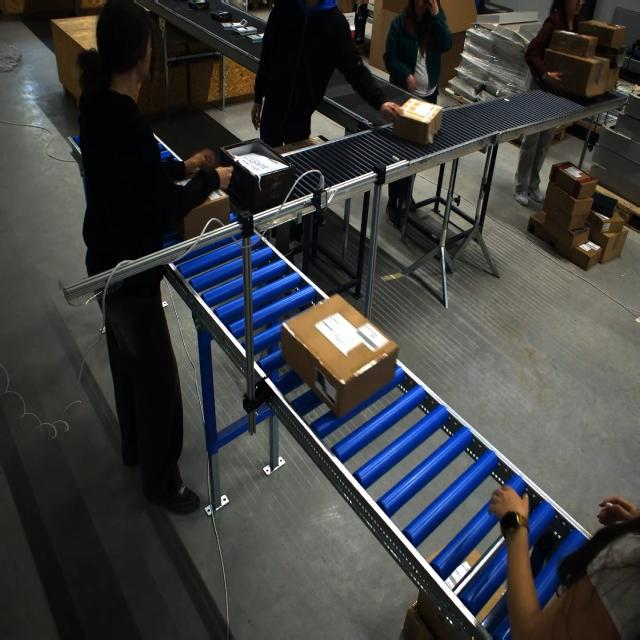box: (284, 293, 368, 405), (174, 180, 230, 243), (392, 97, 441, 146), (174, 172, 226, 201)
product: (210, 10, 232, 22), (233, 25, 257, 35), (188, 0, 209, 10), (246, 33, 263, 42)
